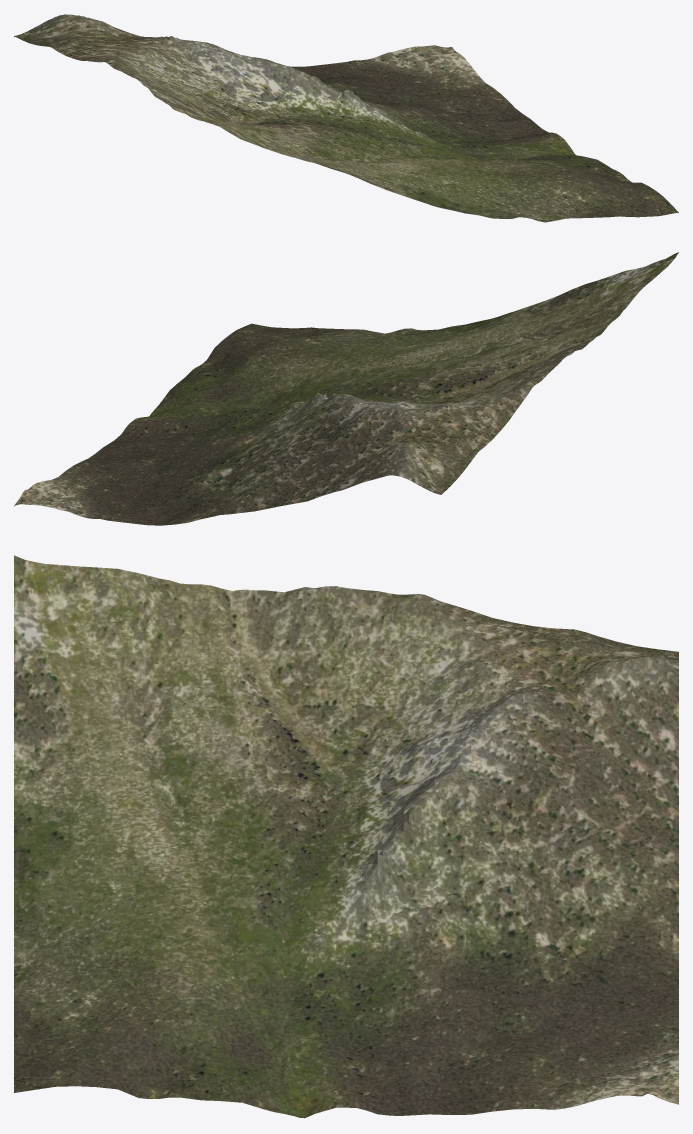
3 views of the same model, one above another, from view 1: azimuth 30°, elevation 25°; view 2: azimuth 150°, elevation 25°; view 3: azimuth 270°, elevation 25° (orthographic). The views are drawn at different scales.
Size of the model in its own units: 1000 by 435 by 963.
Materials: 1 (1 with a texture image).
